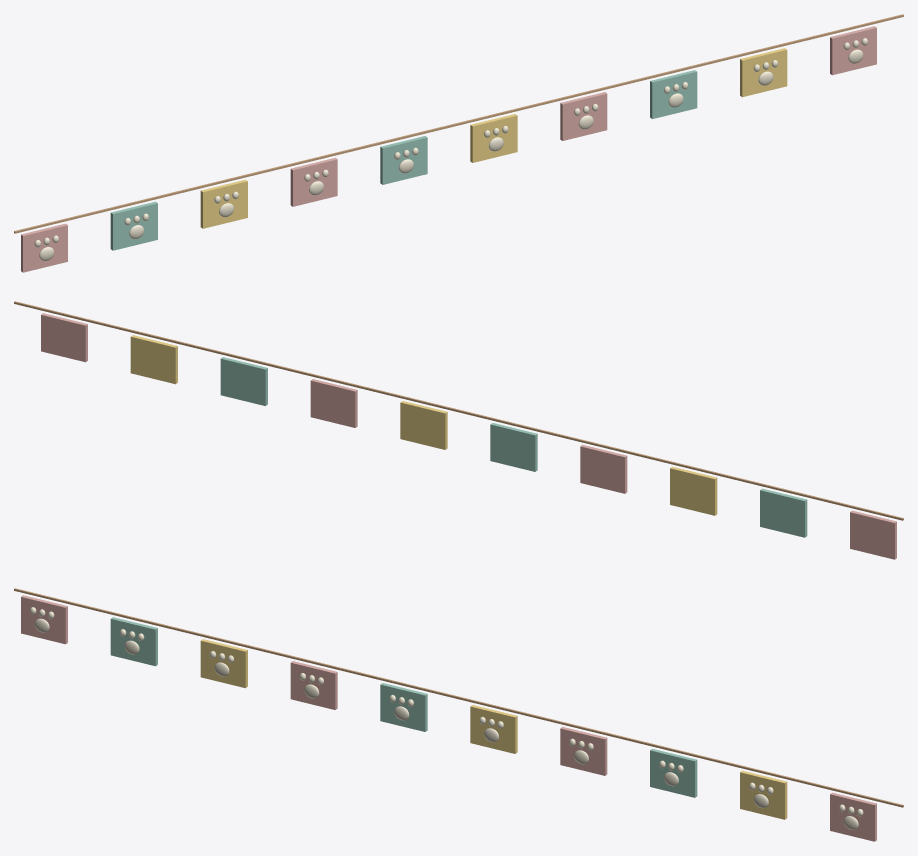
File: bunting.glb
The picture shows the model from 3 angles, top to bottom: view 1: azimuth 30°, elevation 25°; view 2: azimuth 150°, elevation 25°; view 3: azimuth 330°, elevation 25°; orthographic projection.
Visible parts, largest first — view 1: pennant, pennant.002, pennant.001, bunting string, paw pad.001; view 2: pennant, pennant.002, pennant.001, bunting string; view 3: pennant, pennant.001, pennant.002, bunting string, paw pad.001.
Boxes of the visible parts, x1,y1,x2,y2 form: pennant: (21,26,876,272); pennant.002: (200,48,787,228); pennant.001: (110,70,697,250); bunting string: (14,14,903,233); paw pad.001: (34,38,867,260); pennant: (41,313,896,559); pennant.002: (130,335,717,515); pennant.001: (220,357,807,537); bunting string: (14,301,903,520); pennant: (21,595,876,841); pennant.001: (110,617,697,797); pennant.002: (200,639,787,819); bunting string: (14,588,903,807); paw pad.001: (30,607,863,829).
Size of the model in its own units: 8.9 by 0.404 by 0.084.
